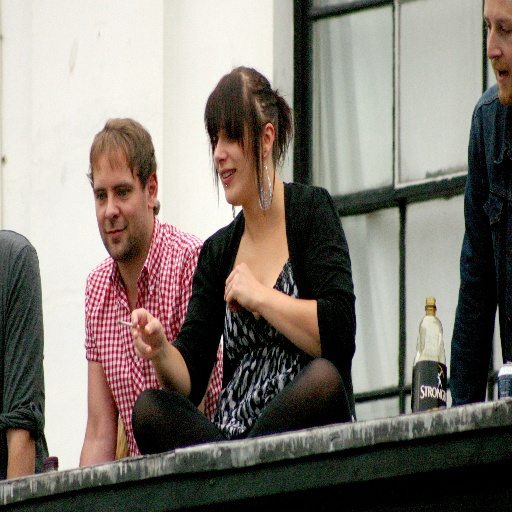hand: (214, 252, 309, 341), (129, 305, 166, 362)
